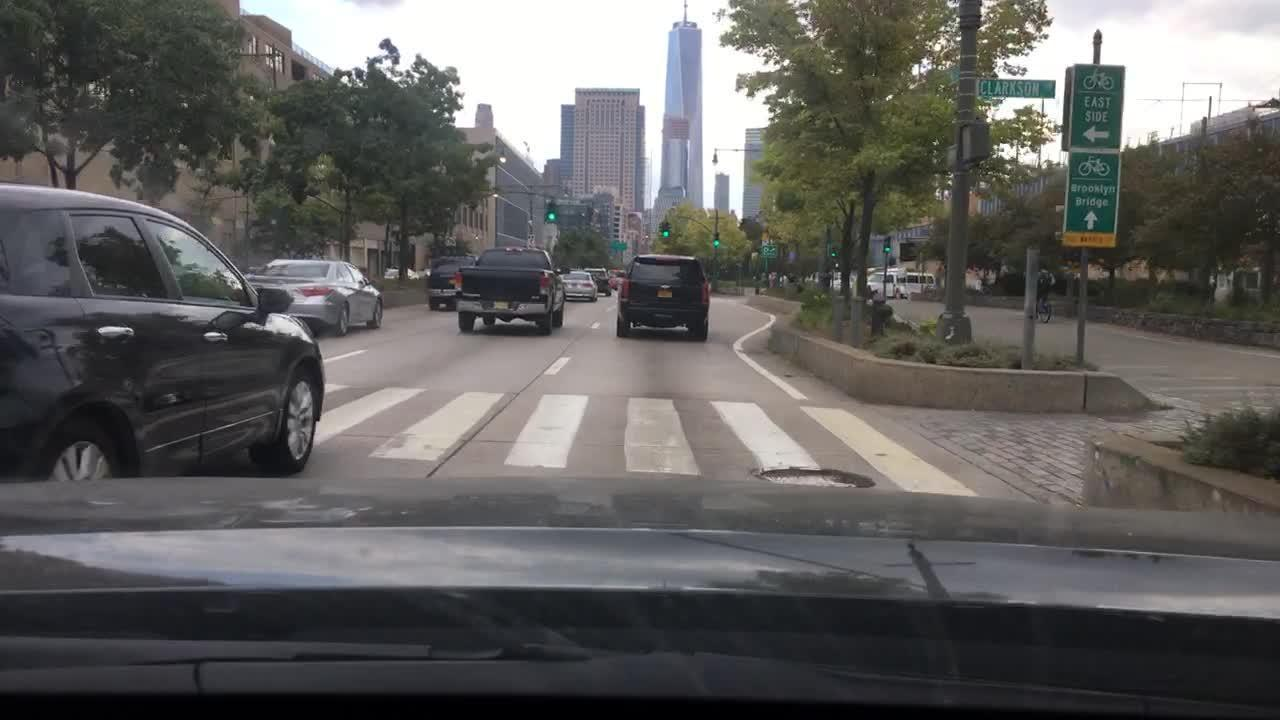chevrolet: (658, 282, 676, 293)
